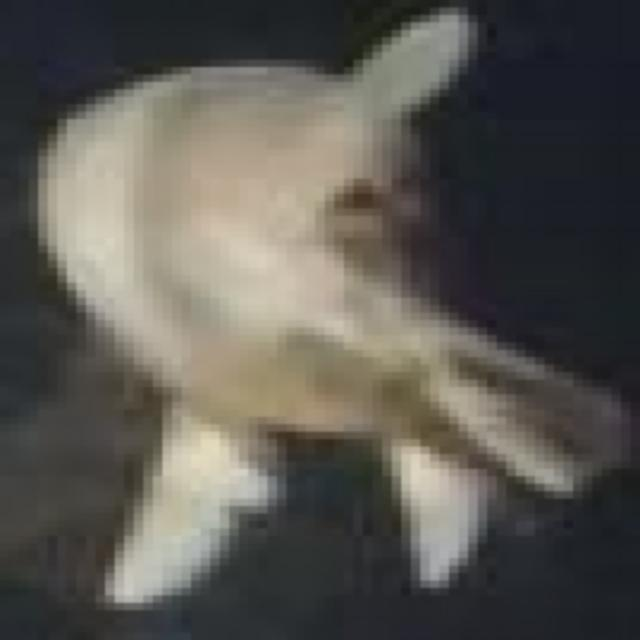fish: (9, 7, 640, 639)
